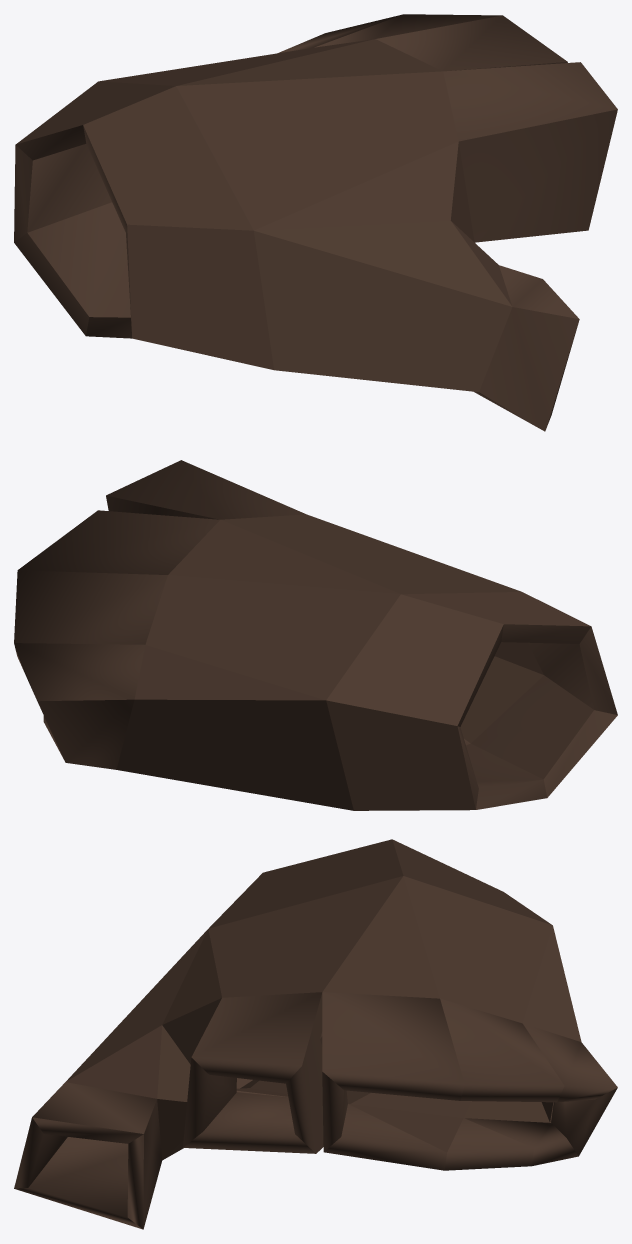
File: Chr_HandLeft_Female_17_Drop.fbx
3 views of the same model, one above another, from view 1: azimuth 30°, elevation 25°; view 2: azimuth 150°, elevation 25°; view 3: azimuth 270°, elevation 25° (orthographic). The views are drawn at different scales.
Parts seen in each view (by area): view 1: Chr_HandLeft_Female_17_Static; view 2: Chr_HandLeft_Female_17_Static; view 3: Chr_HandLeft_Female_17_Static.
Boxes of the visible parts, left/top/right/bottom form: Chr_HandLeft_Female_17_Static: left=14, top=14, right=617, bottom=431; Chr_HandLeft_Female_17_Static: left=14, top=460, right=617, bottom=810; Chr_HandLeft_Female_17_Static: left=14, top=839, right=617, bottom=1229.
Size of the model in its own units: 15.96 by 8.19 by 17.52.
